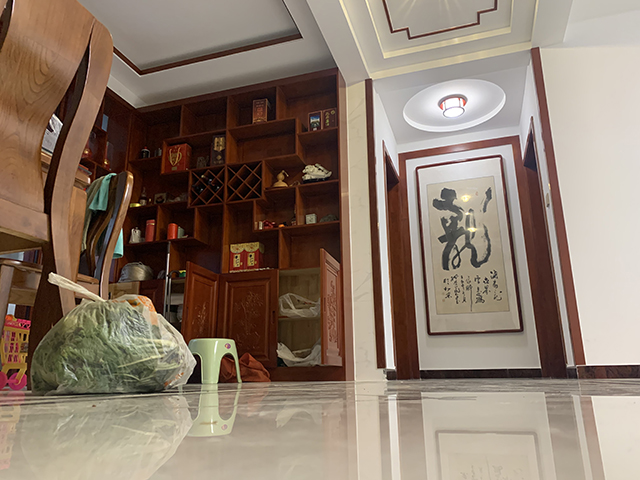cabinet: (208, 252, 354, 383)
stool: (1, 1, 113, 390), (1, 170, 134, 345), (187, 337, 243, 385)
